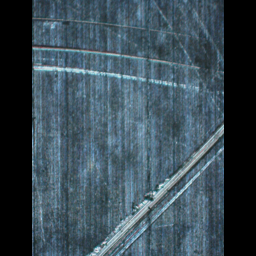d: (85, 113, 224, 256), (32, 11, 215, 101)
